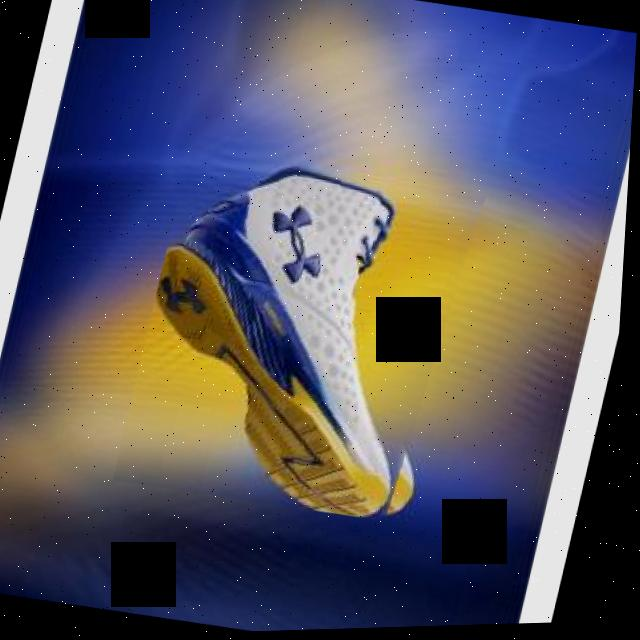shoe: (116, 140, 492, 534)
